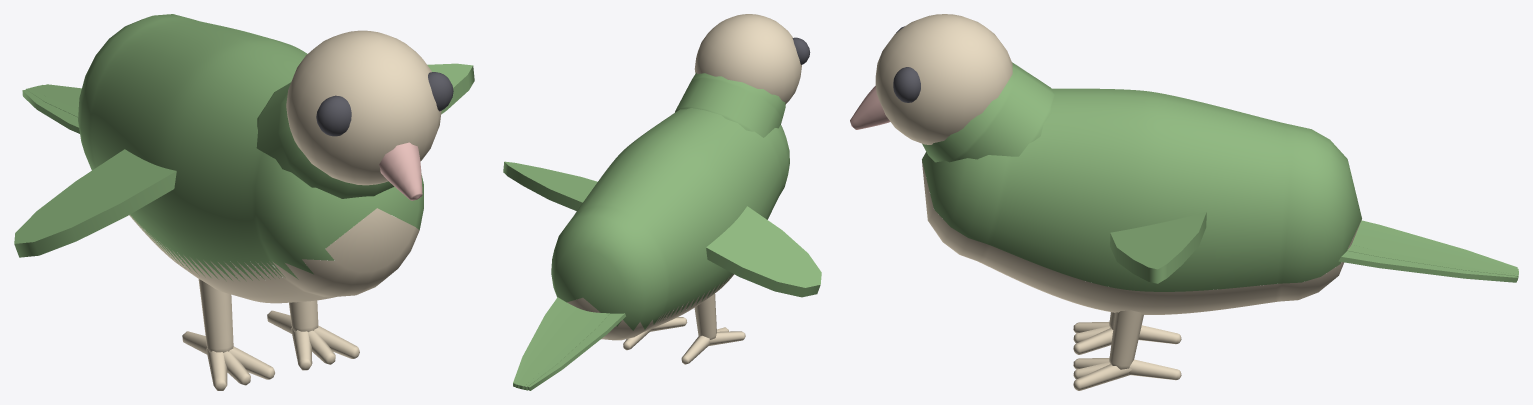
The model's file is pets-and-companions-hd-budgerigar-ac0a4e79__28159.glb.
3 renders of one model, left to right at view 1: azimuth 30°, elevation 25°; view 2: azimuth 150°, elevation 25°; view 3: azimuth 270°, elevation 25°, orthographic. The views are drawn at different scales.
Visible parts, largest first — view 1: budgerigar; view 2: budgerigar; view 3: budgerigar.
Part boxes in pixels (box(x1,y1,x2,y2)): budgerigar: box(14, 14, 474, 390); budgerigar: box(503, 14, 821, 390); budgerigar: box(850, 14, 1518, 390).
Bounding box in the file's own units: 0.1521 × 0.124 × 0.2197.
